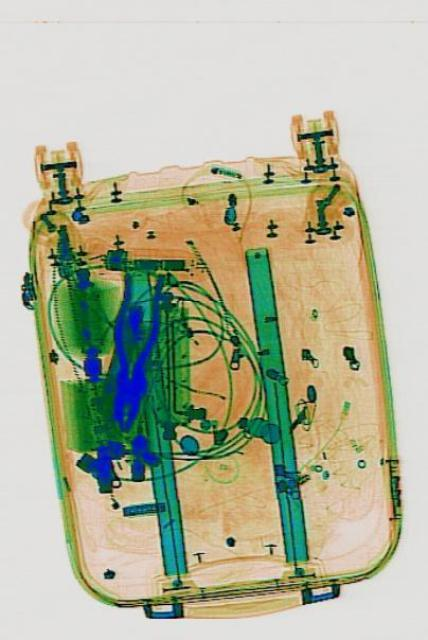Pliers: (100, 265, 165, 431)
